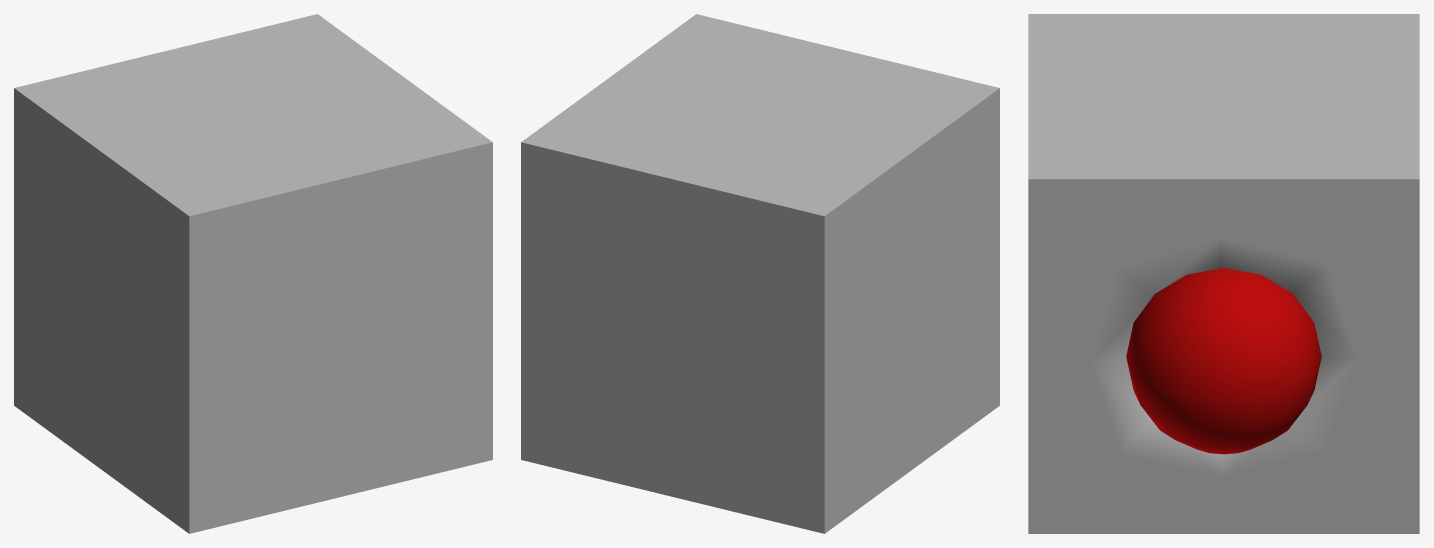
The model's file is 220129_modelInfantry_001.fbx.
The picture shows the model from 3 angles, left to right: view 1: azimuth 30°, elevation 25°; view 2: azimuth 150°, elevation 25°; view 3: azimuth 270°, elevation 25°; orthographic projection. The views are drawn at different scales.
Parts seen in each view (by area): view 1: mainBody_001; view 2: mainBody_001; view 3: mainBody_001, mainWeakPoint_001.
Boxes of the visible parts, box(x1,y1,x2,y2) form: mainBody_001: box(14, 14, 492, 533); mainBody_001: box(521, 14, 999, 533); mainBody_001: box(1028, 14, 1419, 533); mainWeakPoint_001: box(1126, 268, 1321, 454).
Bounding box in the file's own units: 75 × 60 × 60.
